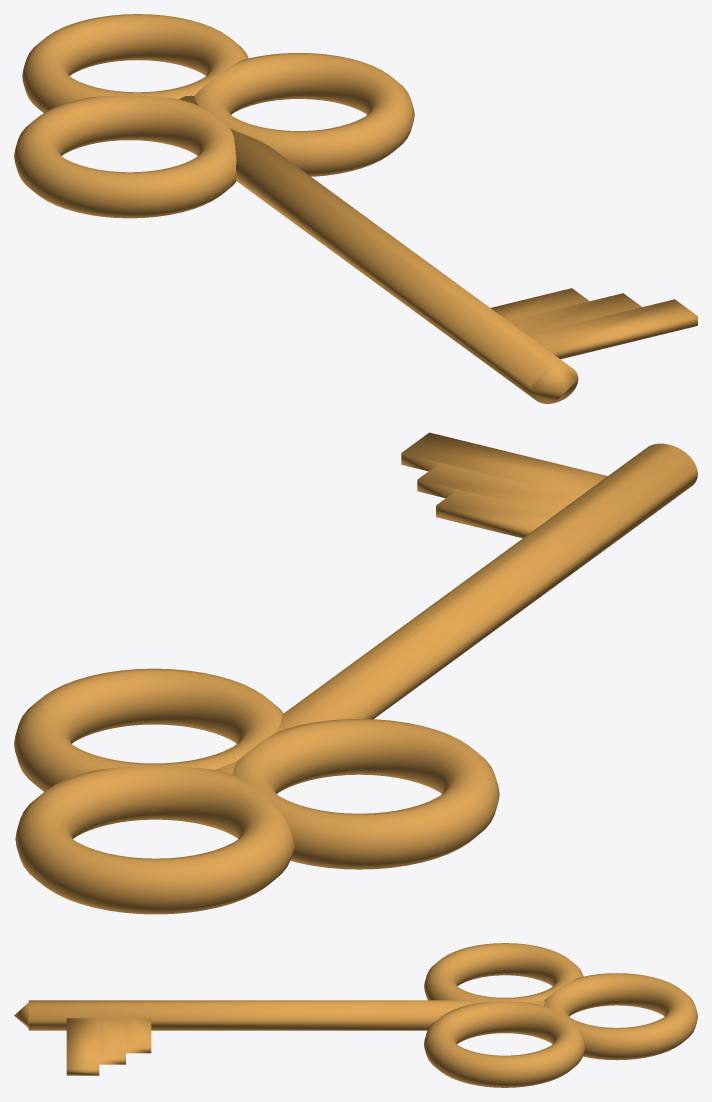
The model's file is LLAVEEEEEEEEEEEEEE.fbx.
3 renders of one model, top to bottom at view 1: azimuth 30°, elevation 25°; view 2: azimuth 150°, elevation 25°; view 3: azimuth 270°, elevation 25°, orthographic. The views are drawn at different scales.
Parts seen in each view (by area): view 1: Cubo; view 2: Cubo; view 3: Cubo.
Part boxes in pixels (x1,y1,x2,y2): Cubo: (14,14,697,403); Cubo: (14,432,697,914); Cubo: (14,943,697,1087).
Size of the model in its own units: 429 by 46.5 by 982.
